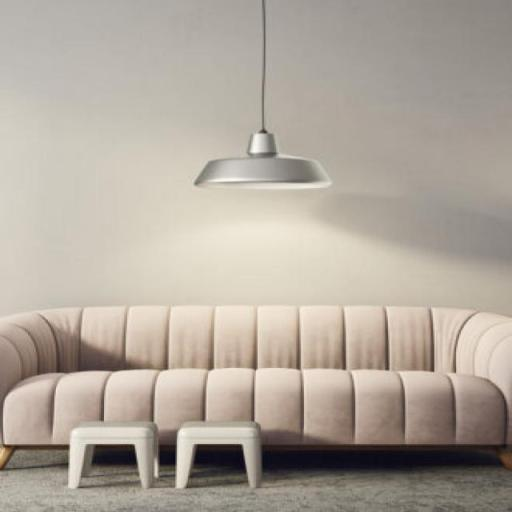sofa: (0, 286, 512, 512)
